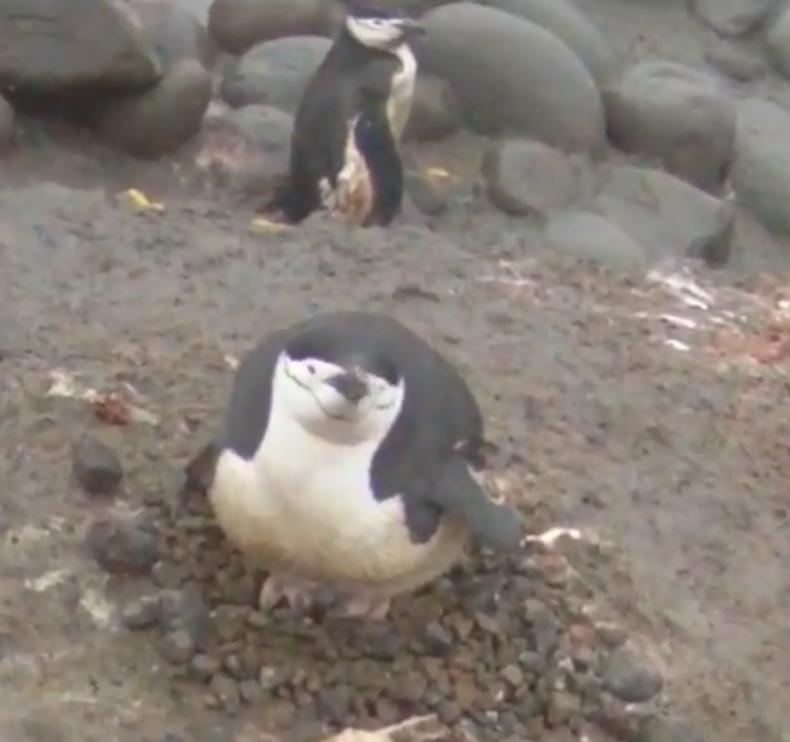Chinstrap Penguin: (188, 317, 530, 603), (250, 0, 450, 230), (0, 356, 107, 742)
